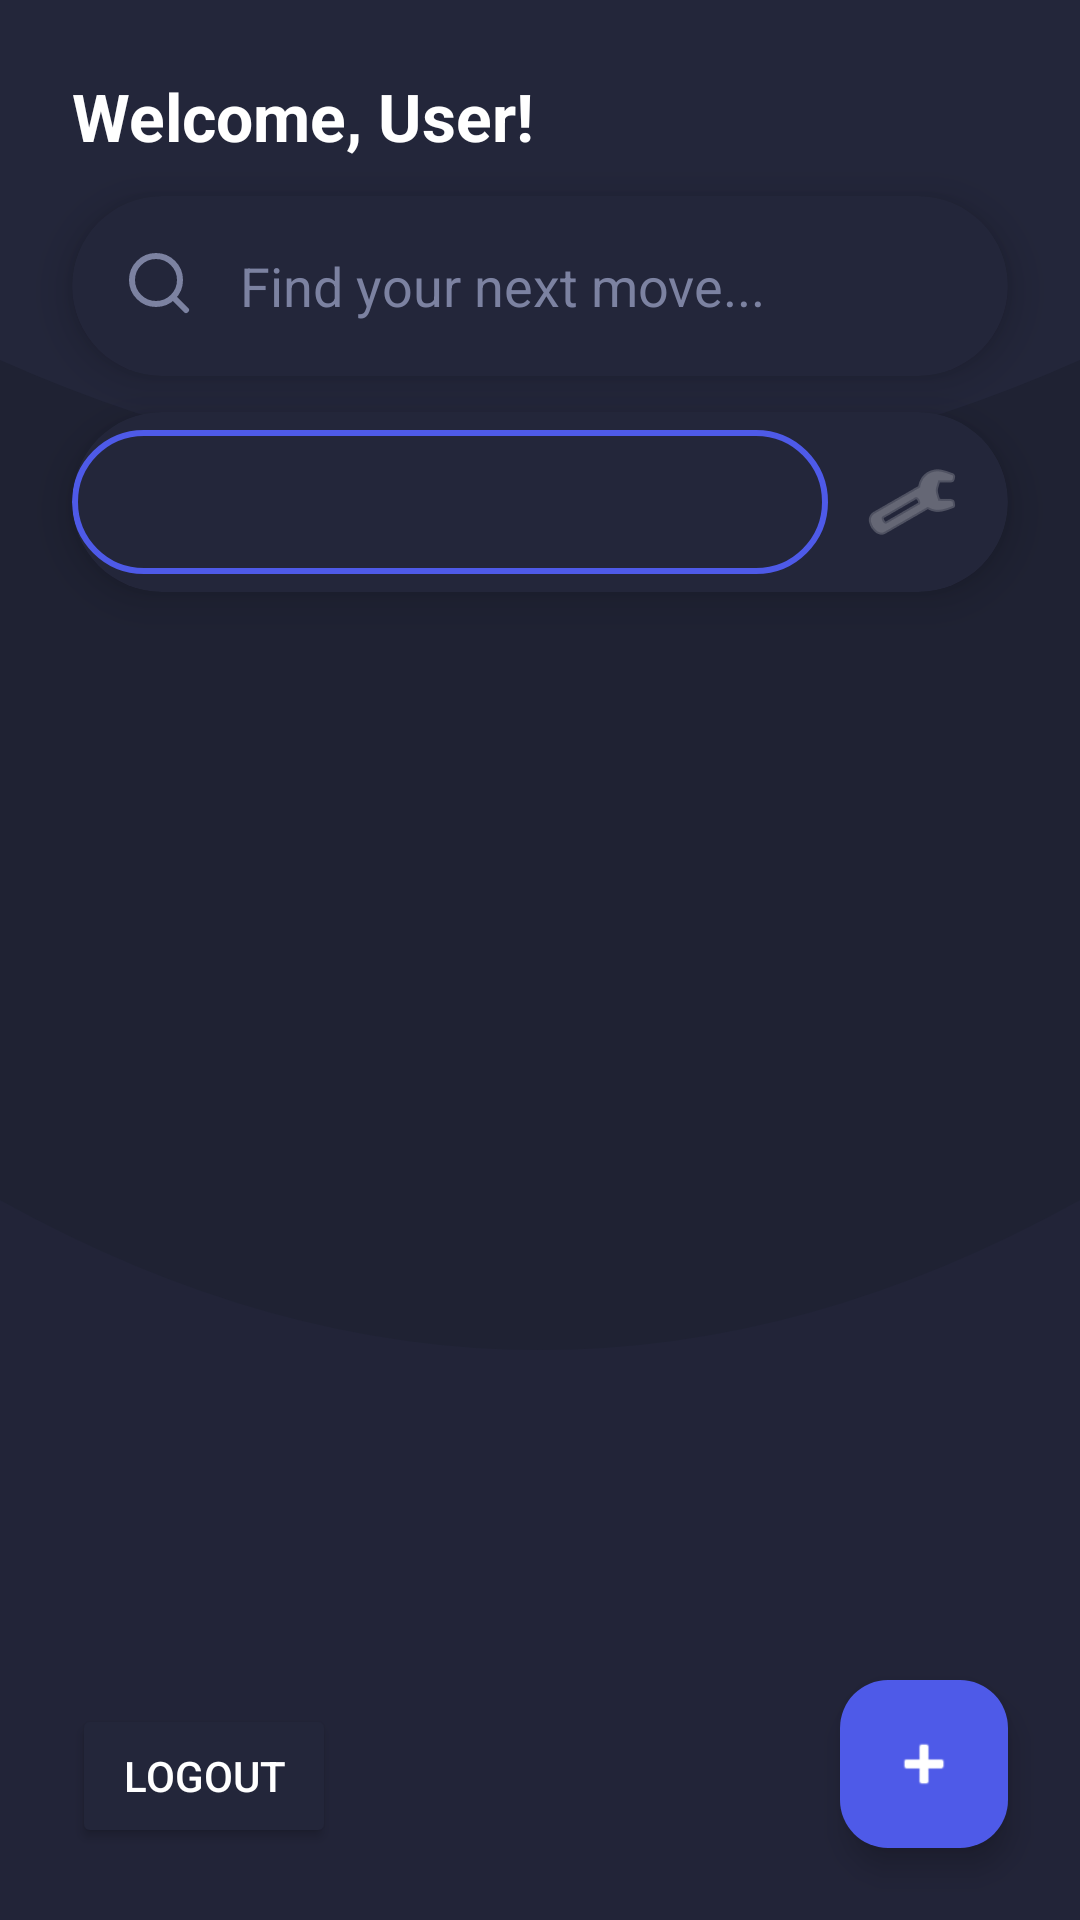

Named icons in this screenshot (1080x1920) and their centers, point (x, y):
Add a new task: point (924, 1764)
Search icon: point (159, 283)
Settings: point (912, 502)
